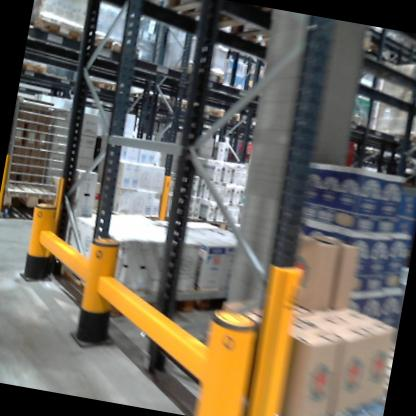pallet: (232, 4, 392, 73), (96, 0, 290, 48), (28, 8, 91, 47), (0, 181, 59, 217), (168, 60, 226, 88), (86, 31, 141, 59), (200, 102, 240, 125), (83, 74, 120, 98), (23, 59, 50, 78), (386, 129, 416, 146)
